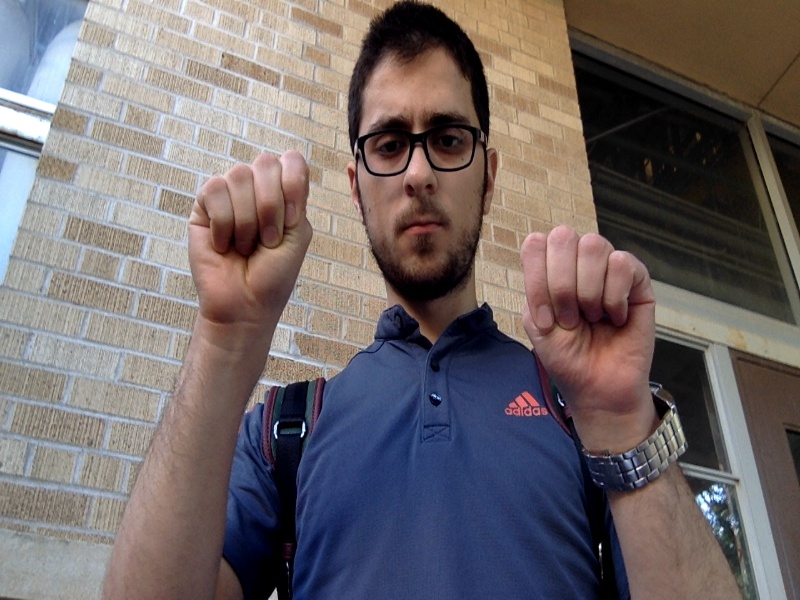0-hand: (524, 228, 655, 412), (188, 152, 312, 337)
